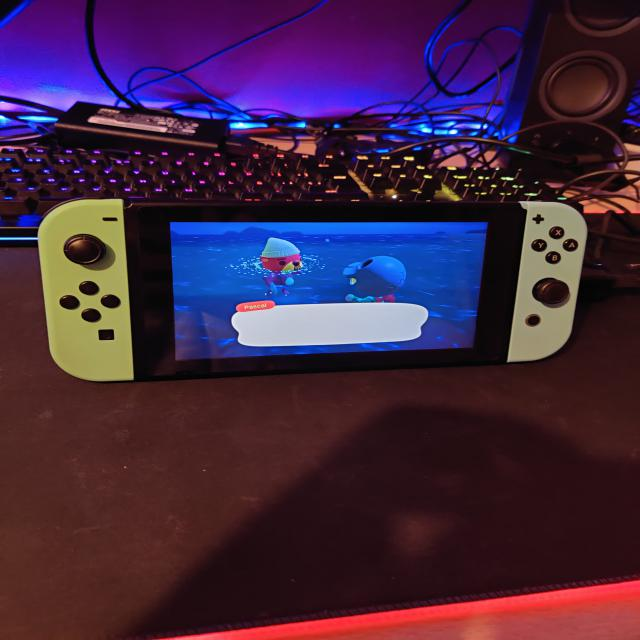text_bubble: (230, 298, 431, 349)
